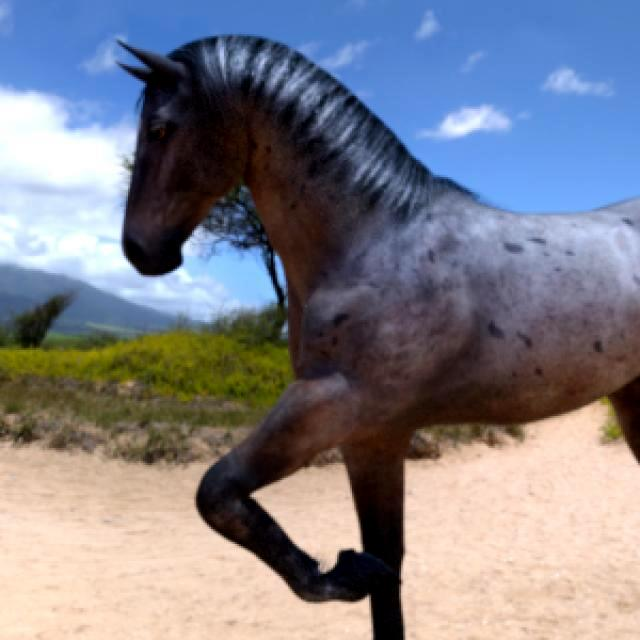horse: (122, 36, 640, 639)
